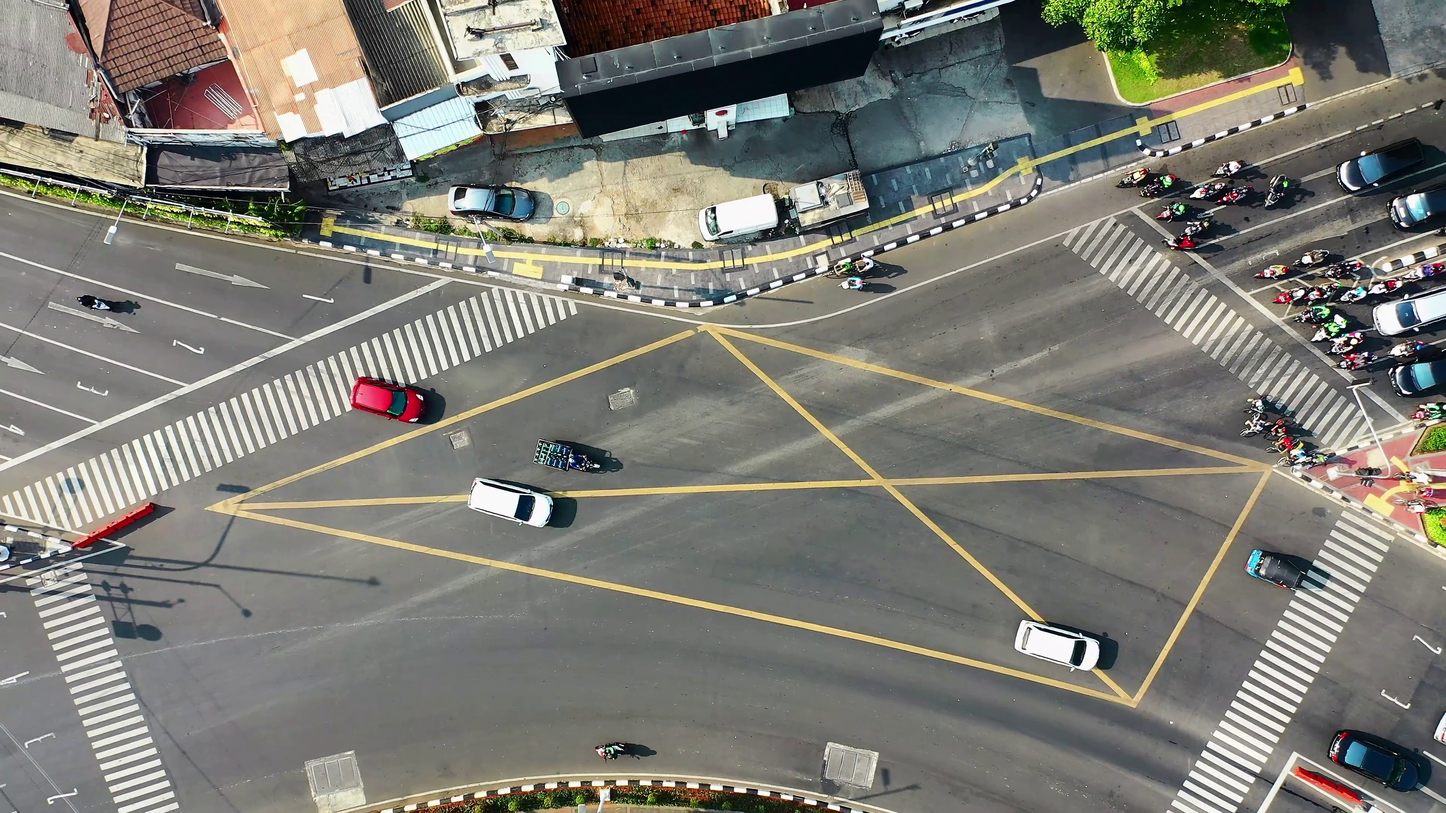Vehicle: (459, 475, 574, 530), (1327, 729, 1420, 797), (1011, 620, 1108, 675), (350, 373, 434, 425), (695, 192, 779, 243), (448, 178, 551, 219), (527, 433, 618, 476), (1336, 146, 1398, 198), (1244, 549, 1307, 595), (1372, 297, 1446, 336), (1386, 193, 1446, 232), (1391, 364, 1446, 398), (1331, 349, 1380, 384), (588, 731, 638, 765), (75, 290, 115, 321), (1381, 337, 1433, 359), (1315, 312, 1354, 341), (1308, 279, 1352, 303), (1264, 171, 1290, 210), (1139, 172, 1178, 198), (1160, 231, 1203, 254), (1295, 246, 1334, 270), (1299, 302, 1338, 326), (1331, 330, 1368, 355), (1326, 256, 1366, 278), (1253, 260, 1290, 283), (1403, 264, 1441, 286), (1277, 284, 1311, 308), (1190, 181, 1232, 200), (1155, 202, 1190, 224), (1212, 158, 1247, 180), (1183, 217, 1222, 235), (1117, 168, 1151, 188), (1344, 284, 1373, 307), (1411, 402, 1446, 421), (1371, 276, 1406, 293), (1205, 193, 1248, 205), (1386, 196, 1398, 230)
